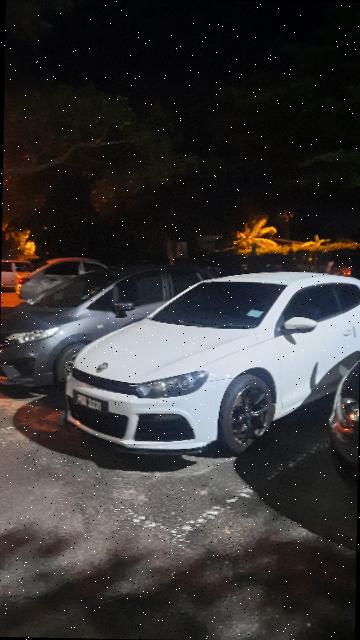License_Plate: (73, 391, 111, 420)
car: (63, 266, 360, 456), (1, 259, 242, 396)
